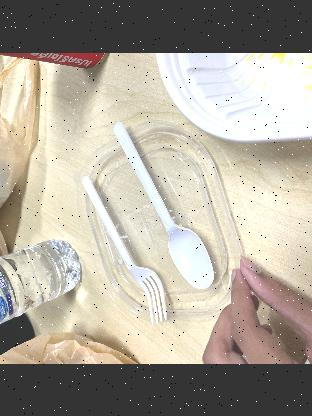Others: (108, 119, 224, 297), (76, 173, 171, 328)
